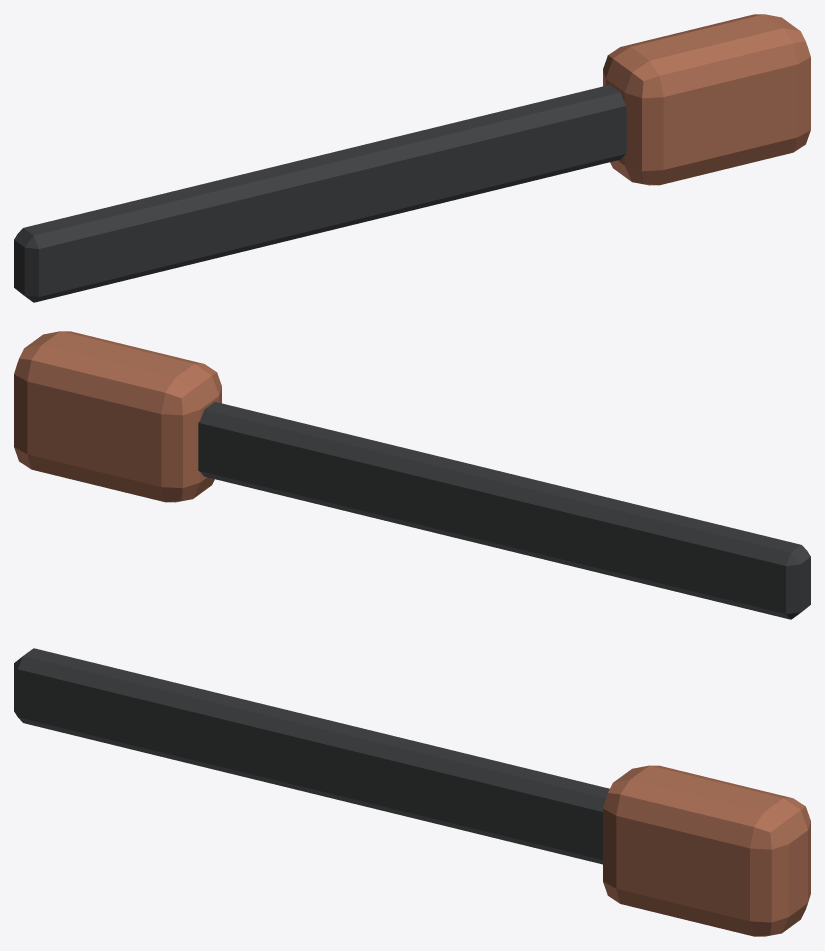
The model's file is swivel_office_chair_height_lever.glb.
3 renders of one model, top to bottom at view 1: azimuth 30°, elevation 25°; view 2: azimuth 150°, elevation 25°; view 3: azimuth 330°, elevation 25°, orthographic.
Parts seen in each view (by area): view 1: export_tmp; view 2: export_tmp; view 3: export_tmp.
Part boxes in pixels (x1,y1,x2,y2): export_tmp: (14, 14, 810, 302); export_tmp: (14, 331, 810, 619); export_tmp: (14, 648, 810, 936).
Size of the model in its own units: 0.17 by 0.026 by 0.018.
